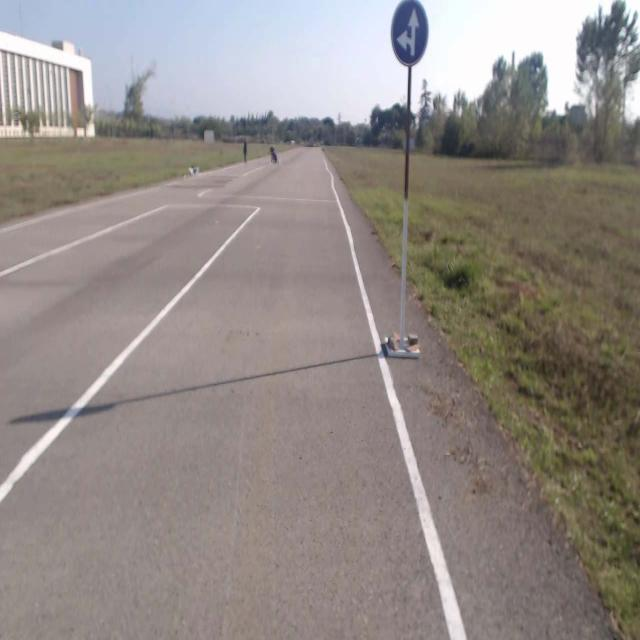ilerisol: (392, 2, 426, 62)
